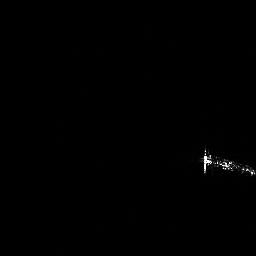ship: (200, 145, 256, 177)
